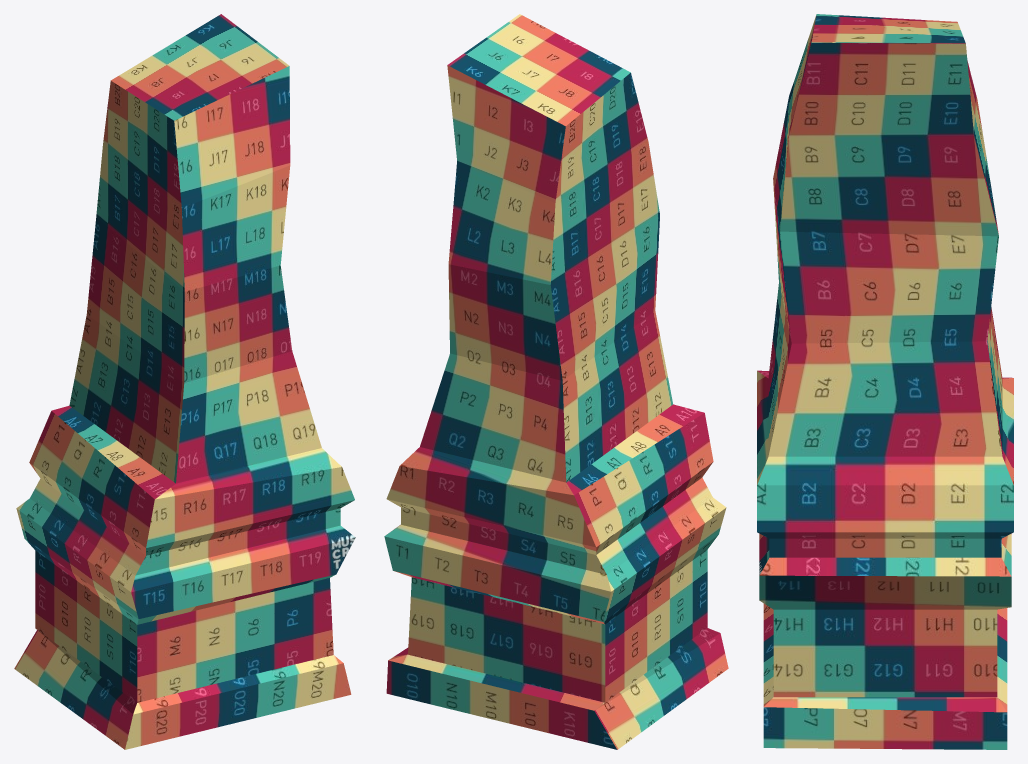
Rendered from Piliier_08_low.FBX.
3 views of the same model, side by side, from view 1: azimuth 30°, elevation 25°; view 2: azimuth 150°, elevation 25°; view 3: azimuth 270°, elevation 25° (orthographic). The views are drawn at different scales.
Parts seen in each view (by area): view 1: Pilier_008; view 2: Pilier_008; view 3: Pilier_008.
Boxes of the visible parts, x1,y1,x2,y2 form: Pilier_008: (14, 14, 355, 749); Pilier_008: (384, 14, 728, 749); Pilier_008: (757, 14, 1013, 749).
Size of the model in its own units: 1.58 by 4.07 by 1.39.
